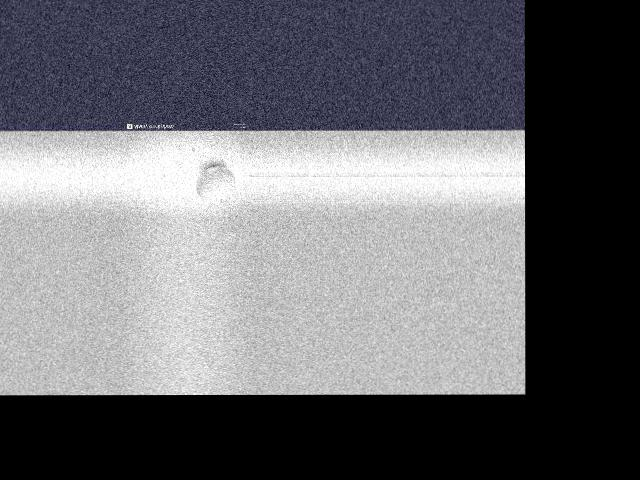egg: (197, 165, 236, 201)
